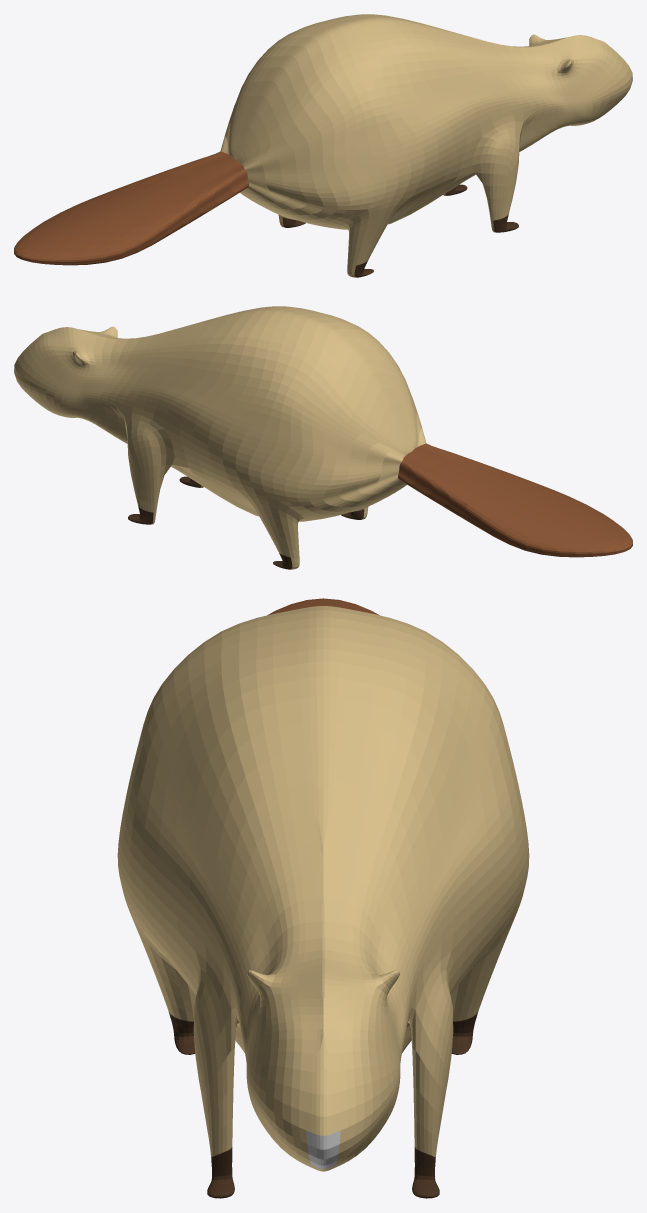
Rendered from beaver.fbx.
3 renders of one model, top to bottom at view 1: azimuth 30°, elevation 25°; view 2: azimuth 150°, elevation 25°; view 3: azimuth 270°, elevation 25°, orthographic. The views are drawn at different scales.
Visible parts, largest first — view 1: Cube; view 2: Cube; view 3: Cube.
Boxes of the visible parts, x1,y1,x2,y2 form: Cube: (14, 14, 632, 277); Cube: (14, 306, 632, 569); Cube: (117, 598, 529, 1198).
Size of the model in its own units: 671 by 230 by 194.
